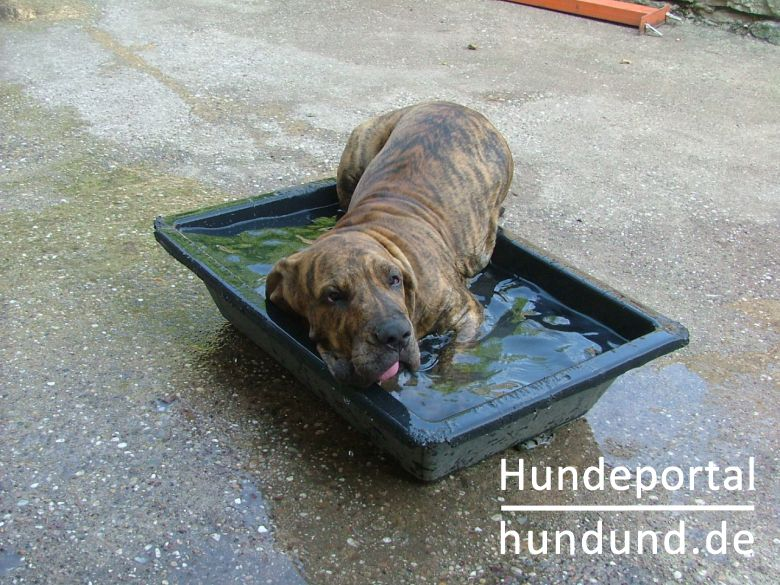fila_brasileiro: (263, 99, 516, 392)
